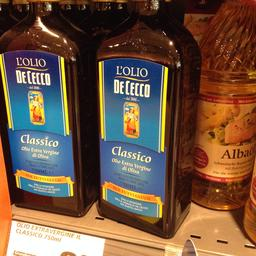oil: (95, 1, 201, 238), (0, 0, 96, 216)
